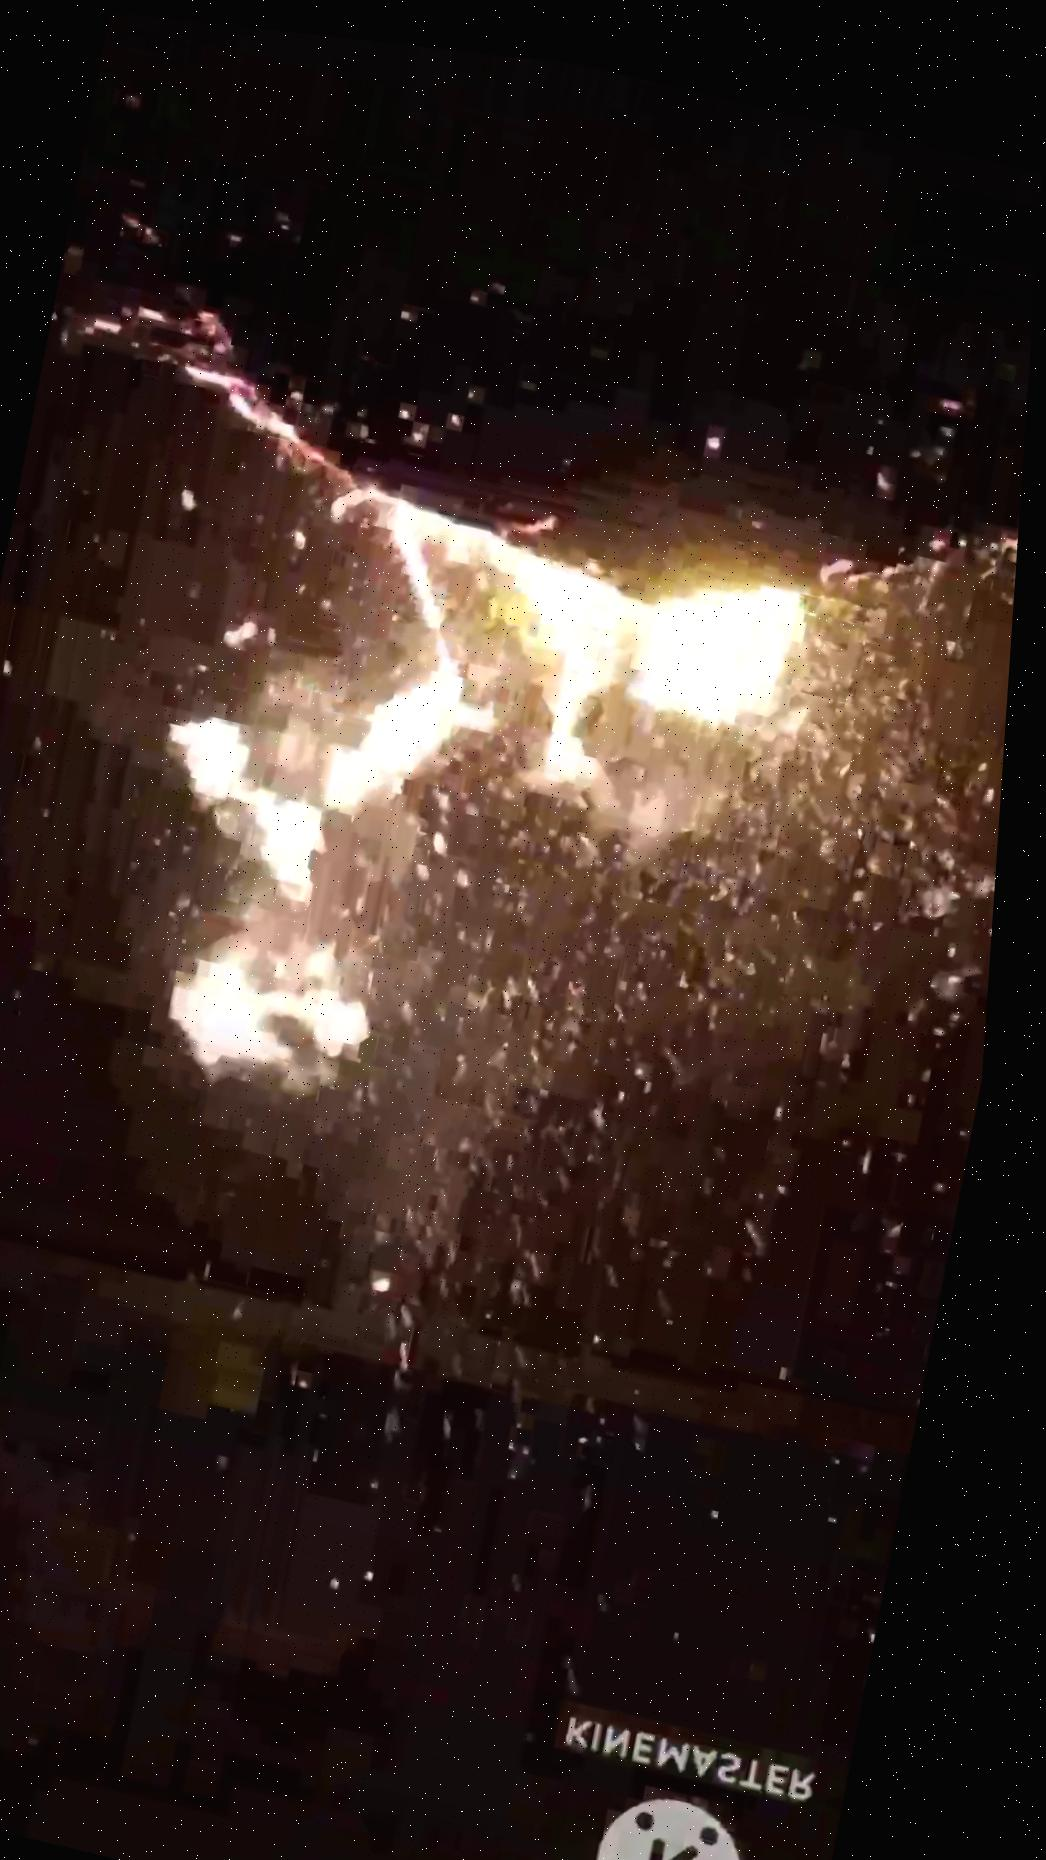fire: (40, 187, 994, 1237)
